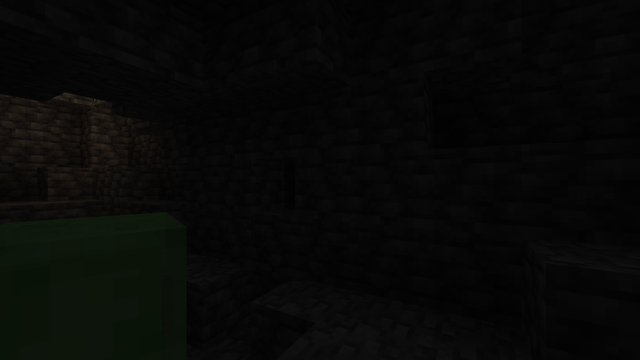slimes: (13, 207, 206, 357)
